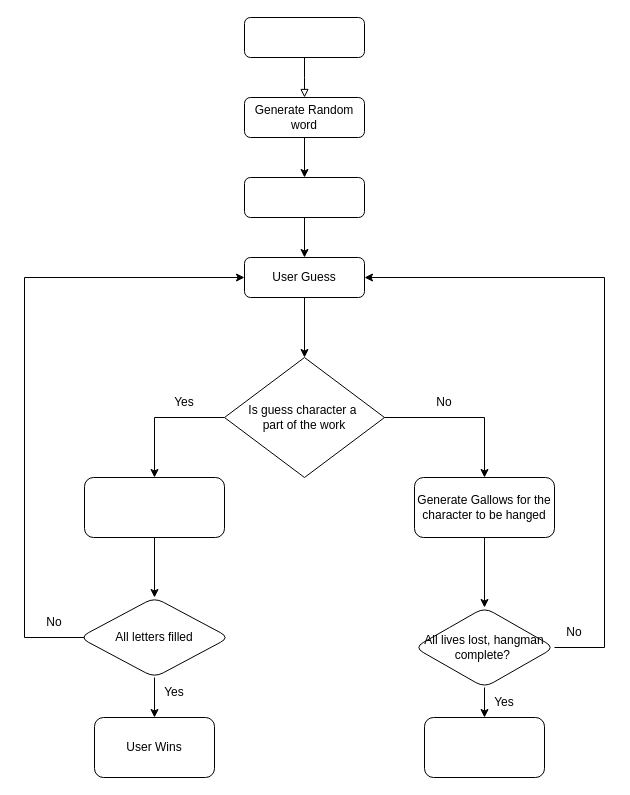
The diagram is 630 pixels wide and 795 high, and some of its shapes have lost their labels. Each missing label, with the centre of its shape:
"Create blanks for the length of the word" goes at pixel 304 197.
"Replace blanks with the letter" goes at pixel 154 507.
"Start" goes at pixel 304 37.
"User Looses" goes at pixel 484 747.
